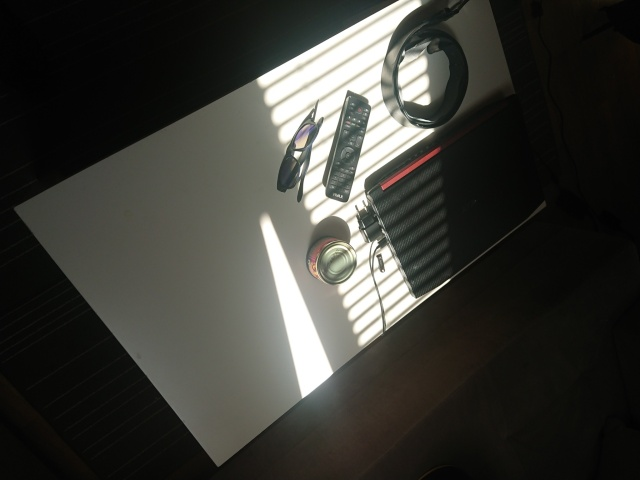Giana Tuna Salad Mexico 185g: (304, 235, 359, 288)
